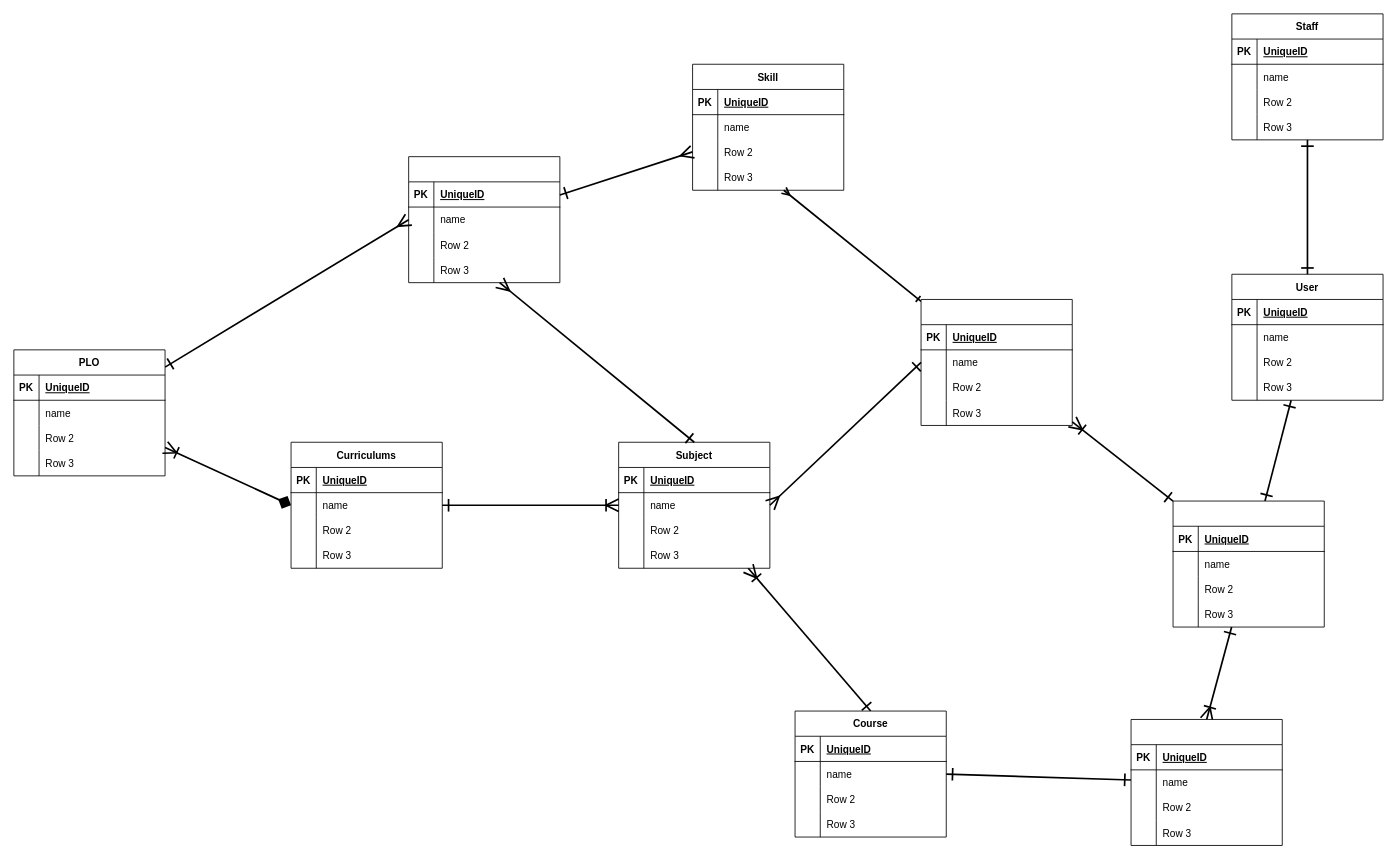
Some shapes in this 1397 by 859 pixel diagram are drawn without their labels. The shapes that lost their labels are listed below. From the top down, each one's box as (x1, y1, x2, y2) in pixels, then its label:
(408, 156, 560, 283): CLO
(920, 299, 1072, 425): Tech Skill
(1172, 500, 1324, 627): Student
(1130, 719, 1282, 845): Register
